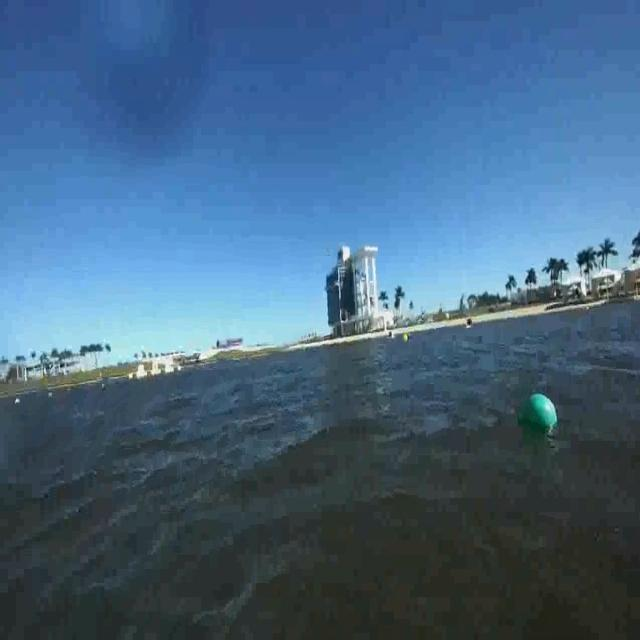green-buoy: (519, 394, 558, 433)
yellow-buoy: (402, 334, 408, 345)
